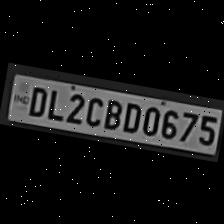0: (138, 102, 160, 137)
2: (62, 88, 86, 124)
5: (192, 112, 218, 147)
6: (156, 106, 180, 140)
7: (176, 109, 198, 143)
B: (100, 96, 122, 130)
C: (80, 92, 104, 128)
D: (22, 82, 48, 117), (118, 98, 142, 134)
L: (42, 84, 65, 120)
